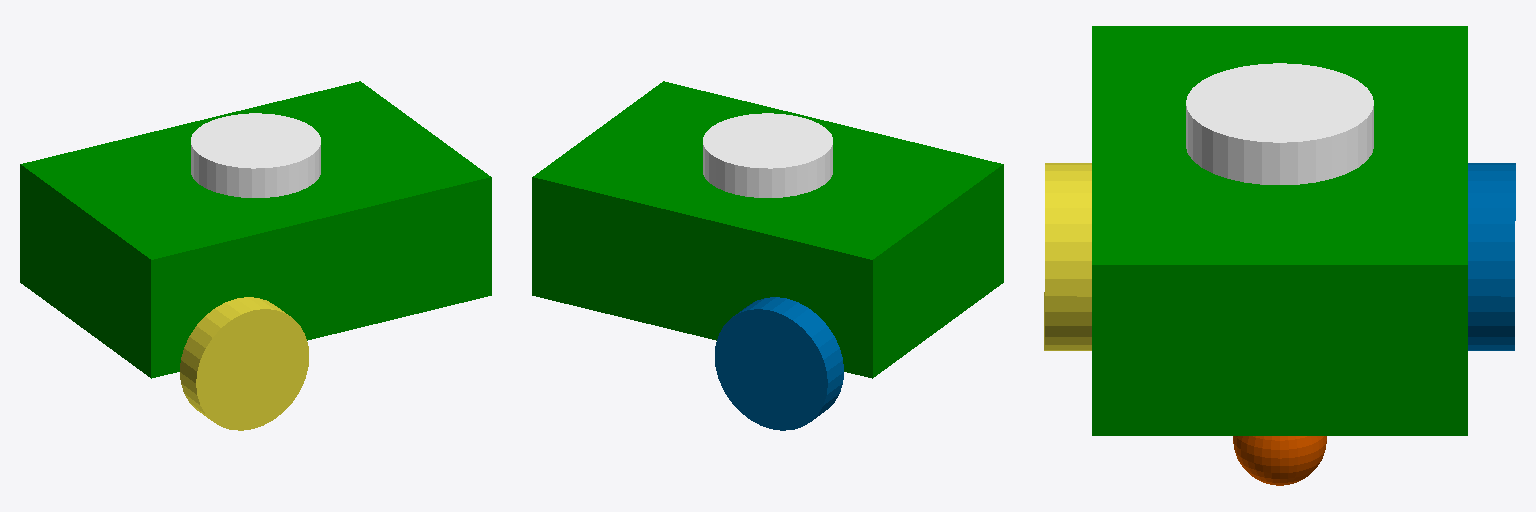
robot.urdf — my_robot:
<?xml version="1.0"?>
<robot name="my_robot">

    <!--    materials-->
    <material name="gray">
        <color rgba="0.7 0.7 0.7 1" />
    </material>

    <material name="green">
        <color rgba="0 0.6 0 1" />
    </material>

    <material name="white">
        <color rgba="1 1 1 1" />
    </material>

    <!--    links-->

    <link name="base_footprint" />

    <link name="base_link">
        <visual>
            <geometry>
                <box size="0.6 0.4 0.2" />
            </geometry>
            <origin xyz="0 0 0.1" rpy="0 0 0" />
            <material name="green" />
        </visual>
    </link>


    <link name="lidar">
        <visual>
            <geometry>
                <cylinder radius="0.1" length="0.05" />
            </geometry>
            <origin xyz="0 0 0" rpy="0 0 0" />
            <material name="white" />
        </visual>
    </link>


    <link name="right_wheel">
        <visual>
            <geometry>
                <cylinder radius="0.1" length="0.05" />
            </geometry>
            <origin xyz="0 0 0" rpy="1.57 0 0" />
        </visual>
    </link>


    <link name="left_wheel">
        <visual>
            <geometry>
                <cylinder radius="0.1" length="0.05" />
            </geometry>
            <origin xyz="0 0 0" rpy="1.57 0 0" />
        </visual>
    </link>


    <link name="caster_wheel">
        <visual>
            <geometry>
                <sphere radius="0.05" />
            </geometry>
            <origin xyz="0 0 0" rpy="0 0 0" />
        </visual>
    </link>

<!--    joints-->

    <joint name="base_joint" type="fixed">
        <parent link="base_footprint" />
        <child link="base_link" />
        <origin xyz="0 0 0.1" rpy="0 0 0" />
    </joint>


    <joint name="base_lidar_joint" type="fixed">
        <parent link="base_link" />
        <child link="lidar" />
        <origin xyz="0 0 0.225" rpy="0 0 0" />
    </joint>

    <joint name="base_right_wheel_joint" type="continuous">
        <parent link="base_link" />
        <child link="right_wheel" />
        <origin xyz="-0.15 -0.225  0" rpy="0 0 0" />
        <axis xyz="0 1 0" />
    </joint>


    <joint name="base_left_wheel_joint" type="continuous">
        <parent link="base_link" />
        <child link="left_wheel" />
        <origin xyz="-0.15 0.225  0" rpy="0 0 0" />
        <axis xyz="0 1 0" />
    </joint>


    <joint name="base_caster_wheel_joint" type="fixed">
        <parent link="base_link" />
        <child link="caster_wheel" />
        <origin xyz="0.2 0 -0.05" rpy="0 0 0" />
    </joint>


</robot>

--- Render facts (derived) ---
3 views of the same robot in one strip: view 1: azimuth 30°, elevation 25°; view 2: azimuth 150°, elevation 25°; view 3: azimuth 270°, elevation 25° (orthographic).
Model my_robot with 6 links and 5 joints (2 continuous, 3 fixed), rooted at base_footprint, posed every joint at zero.
Visible links, largest first — view 1: base_link, right_wheel, lidar; view 2: base_link, left_wheel, lidar; view 3: base_link, lidar, right_wheel, left_wheel, caster_wheel.
Boxes of the visible links, bbox=[...] form: base_link: bbox=[20, 81, 491, 378]; right_wheel: bbox=[180, 297, 308, 430]; lidar: bbox=[191, 113, 320, 197]; base_link: bbox=[532, 81, 1003, 378]; left_wheel: bbox=[715, 297, 843, 430]; lidar: bbox=[703, 113, 832, 197]; base_link: bbox=[1092, 26, 1467, 435]; lidar: bbox=[1186, 63, 1373, 184]; right_wheel: bbox=[1044, 163, 1091, 350]; left_wheel: bbox=[1468, 163, 1515, 350]; caster_wheel: bbox=[1233, 436, 1326, 485].
Size in the robot's own frame: 0.6 by 0.5002 by 0.35 metres.
Geometry: primitives only (box / cylinder / sphere), no mesh files.